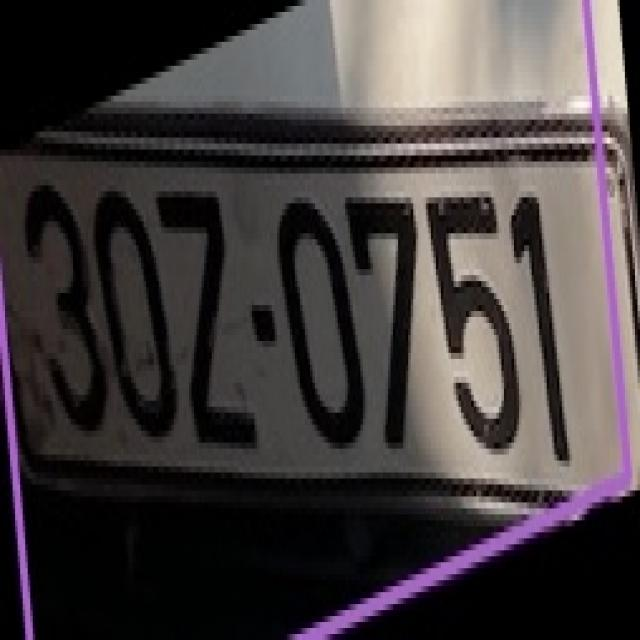0: (280, 186, 365, 454), (98, 180, 176, 448)
1: (509, 179, 580, 466)
3: (20, 174, 106, 442)
5: (426, 180, 519, 460)
7: (351, 180, 418, 454)
Z: (156, 180, 262, 448)
